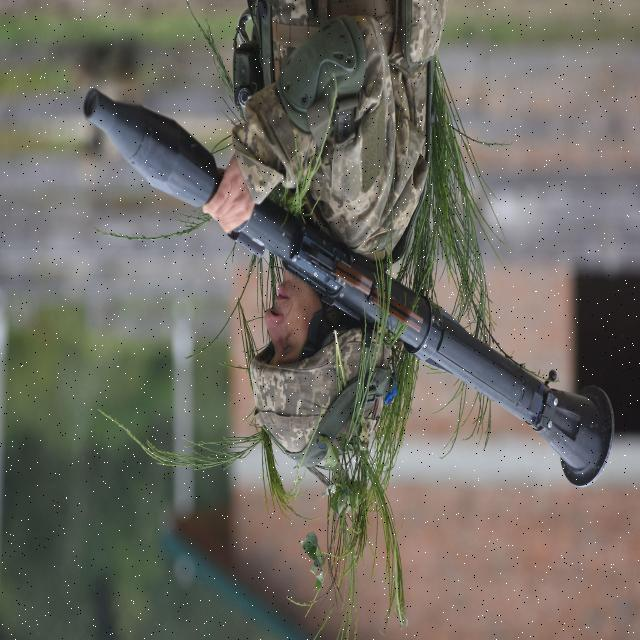bazooka: (74, 84, 624, 501)
